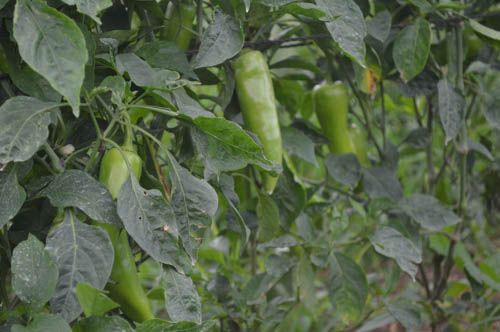ChiliPepper: (85, 149, 150, 320), (233, 50, 284, 190), (315, 82, 354, 166)
